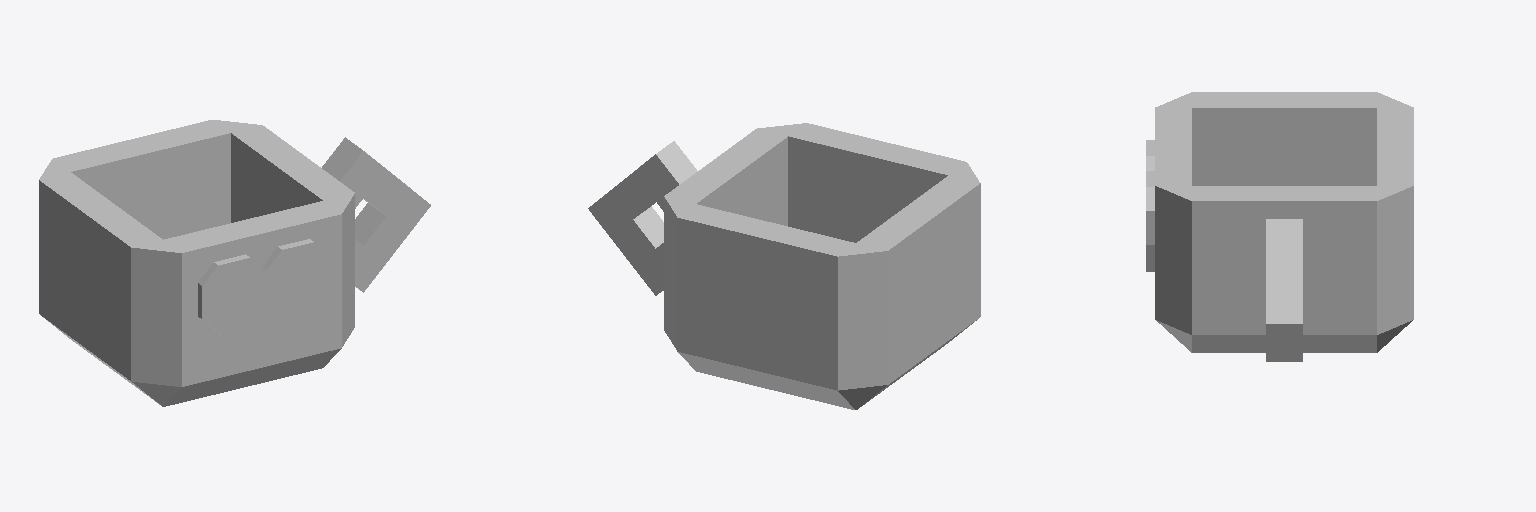
The model's file is clay_mug.obj.
The picture shows the model from 3 angles: view 1: azimuth 30°, elevation 25°; view 2: azimuth 150°, elevation 25°; view 3: azimuth 270°, elevation 25°; orthographic projection.
Visible parts, largest first — view 1: CLAY_MUG_Cube.002; view 2: CLAY_MUG_Cube.002; view 3: CLAY_MUG_Cube.002.
Boxes of the visible parts, x1=… form: CLAY_MUG_Cube.002: x1=39, y1=120, x2=430, y2=406; CLAY_MUG_Cube.002: x1=588, y1=123, x2=980, y2=409; CLAY_MUG_Cube.002: x1=1146, y1=92, x2=1413, y2=361.
Bounding box in the file's own units: 0.6585 × 0.3201 × 0.4531.